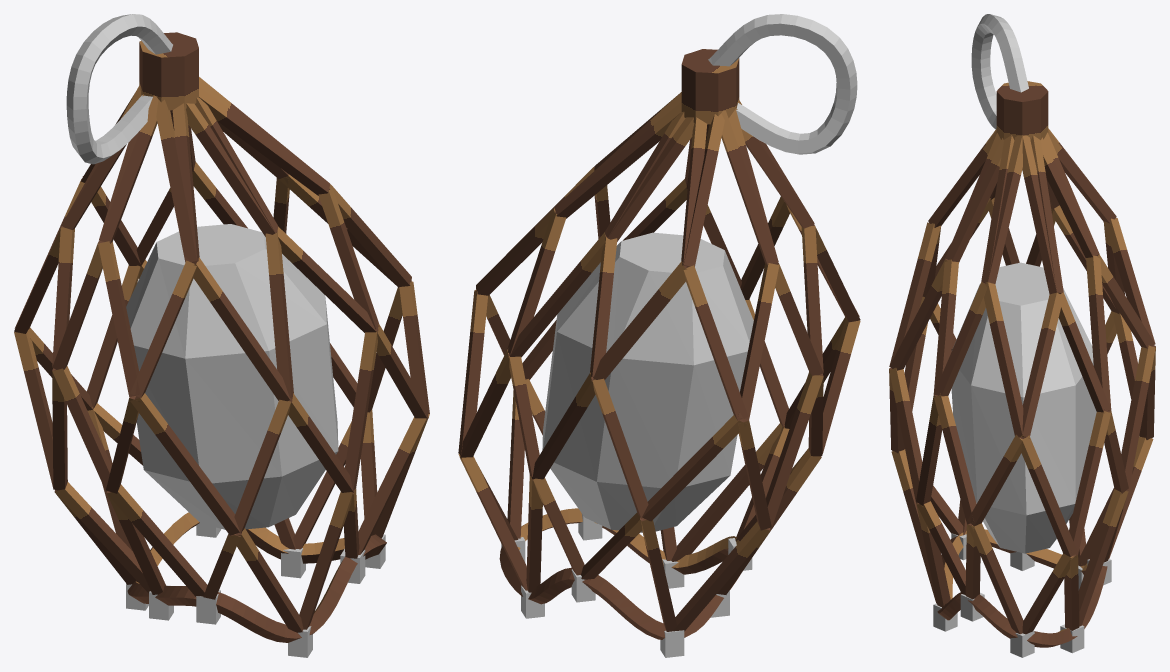
Rendered from spawn_casting_net_full.obj.
The picture shows the model from 3 angles, left to right: view 1: azimuth 30°, elevation 25°; view 2: azimuth 150°, elevation 25°; view 3: azimuth 270°, elevation 25°; orthographic projection. The views are drawn at different scales.
Parts seen in each view (by area): view 1: mesh, contents, cord, weighted_hem, weights; view 2: mesh, contents, cord, weighted_hem, weights; view 3: mesh, contents, cord, weighted_hem, weights.
Part boxes in pixels (<box>): mesh: <box>14,77,429,632</box>; contents: <box>126,224,338,529</box>; cord: <box>66,14,198,164</box>; weighted_hem: <box>127,512,386,642</box>; weights: <box>126,523,385,657</box>; mesh: <box>458,92,860,631</box>; contents: <box>542,232,753,532</box>; cord: <box>681,14,857,154</box>; weighted_hem: <box>499,508,739,639</box>; weights: <box>501,513,752,657</box>; mesh: <box>889,128,1155,634</box>; contents: <box>951,262,1096,553</box>; cord: <box>971,14,1048,140</box>; weighted_hem: <box>937,529,1107,647</box>; weights: <box>933,533,1111,657</box>.
Size of the model in its own units: 0.4988 by 0.8389 by 0.3722.
